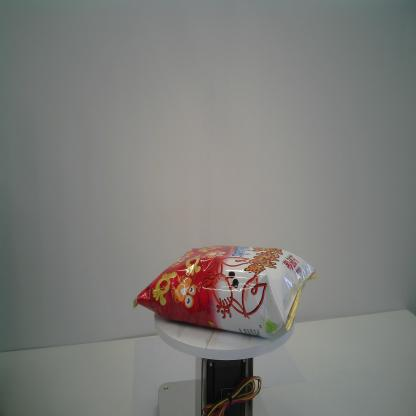Puffed Food: (132, 245, 318, 340)
